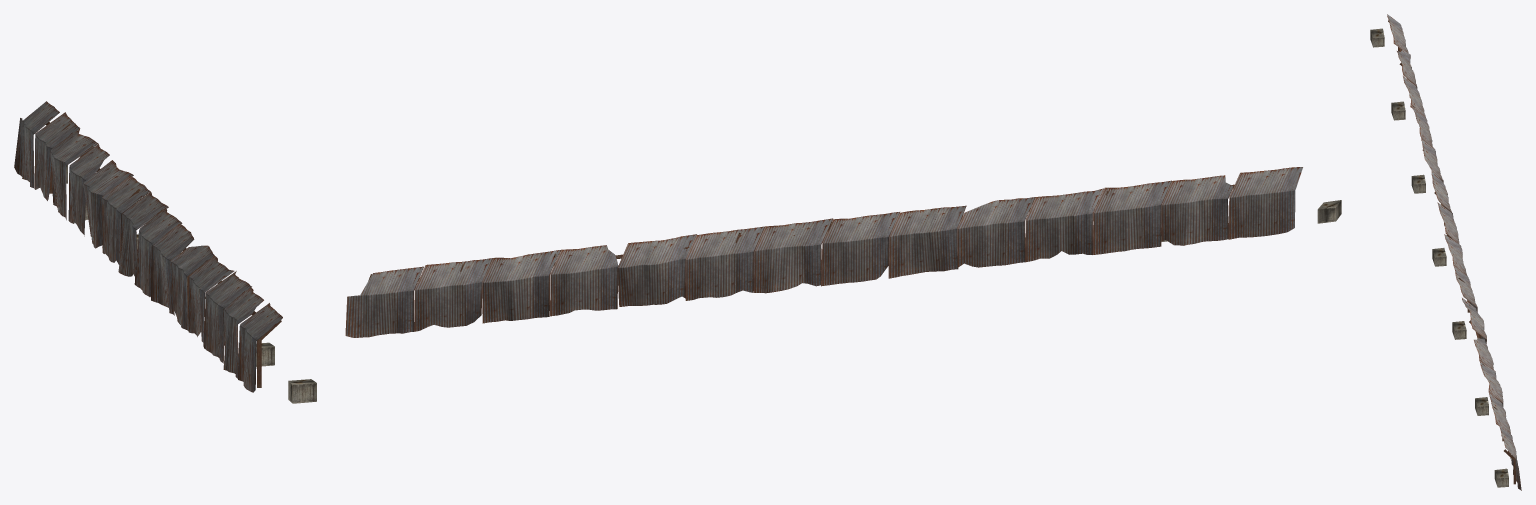
Rendered from range_ramp_left.glb.
3 renders of one model, left to right at view 1: azimuth 90°, elevation 25°; view 2: azimuth 150°, elevation 25°; view 3: azimuth 270°, elevation 25°, orthographic. The views are drawn at different scales.
Visible parts, largest first — view 1: range_ramp_left_LOD0; view 2: range_ramp_left_LOD0; view 3: range_ramp_left_LOD0.
Boxes of the visible parts, x1,y1,x2,y2 form: range_ramp_left_LOD0: (14, 101, 316, 403); range_ramp_left_LOD0: (345, 167, 1341, 337); range_ramp_left_LOD0: (1370, 14, 1521, 490).
Size of the model in its own units: 63.77 by 21.04 by 14.27.
2 materials, 2 textured.
